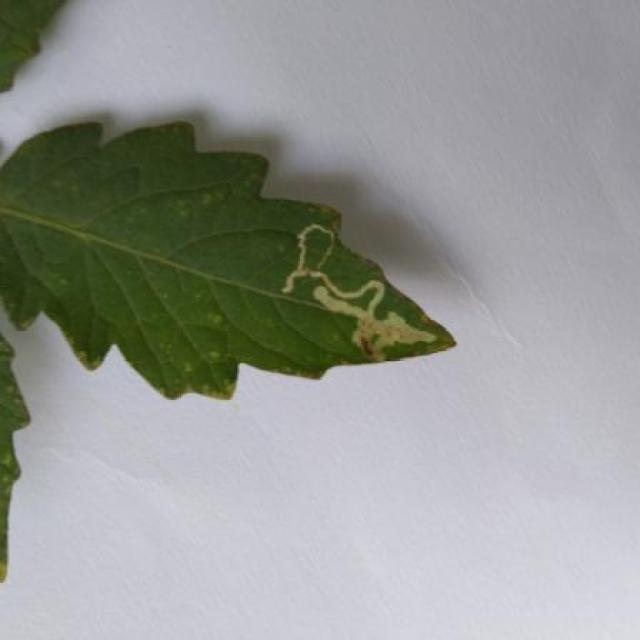Leaf Miner: (0, 118, 461, 404)
